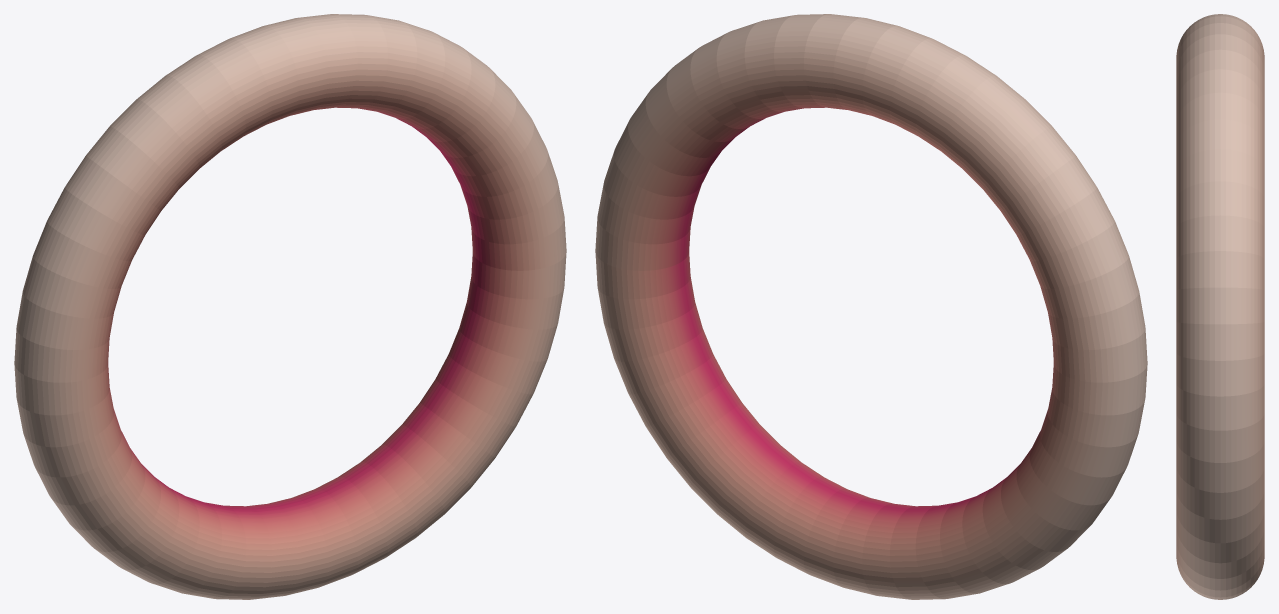
The picture shows the model from 3 angles, left to right: view 1: azimuth 30°, elevation 25°; view 2: azimuth 150°, elevation 25°; view 3: azimuth 270°, elevation 25°; orthographic projection. The views are drawn at different scales.
Parts seen in each view (by area): view 1: world; view 2: world; view 3: world.
Boxes of the visible parts, left/top/right/bottom form: world: left=14, top=14, right=566, bottom=599; world: left=595, top=14, right=1147, bottom=599; world: left=1176, top=14, right=1264, bottom=599.
Size of the model in its own units: 34.53 by 34.47 by 5.19.
